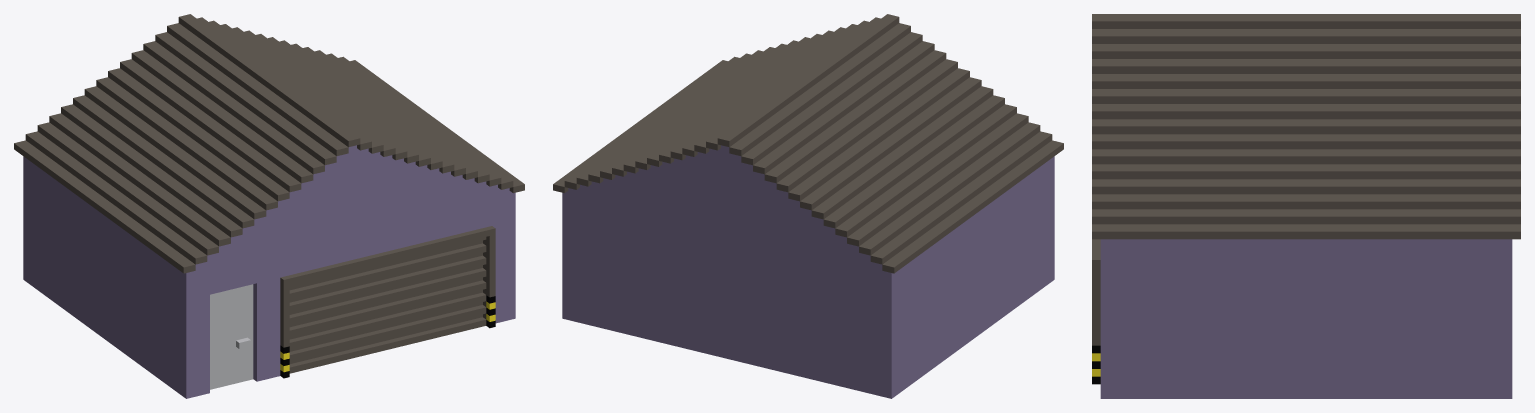
File: warehouse_b.obj
3 renders of one model, left to right at view 1: azimuth 30°, elevation 25°; view 2: azimuth 150°, elevation 25°; view 3: azimuth 270°, elevation 25°, orthographic. The views are drawn at different scales.
Size of the model in its own units: 5.8 by 3.6 by 5.
Materials: 1 (1 with a texture image).
